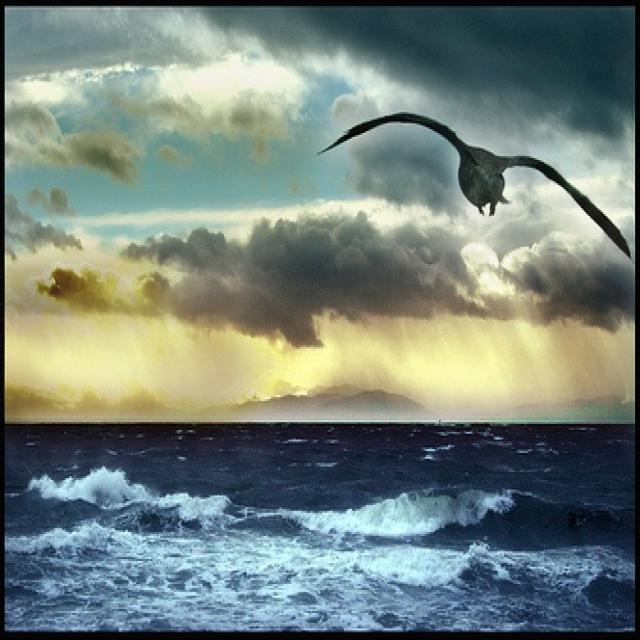bird: (317, 97, 637, 273)
